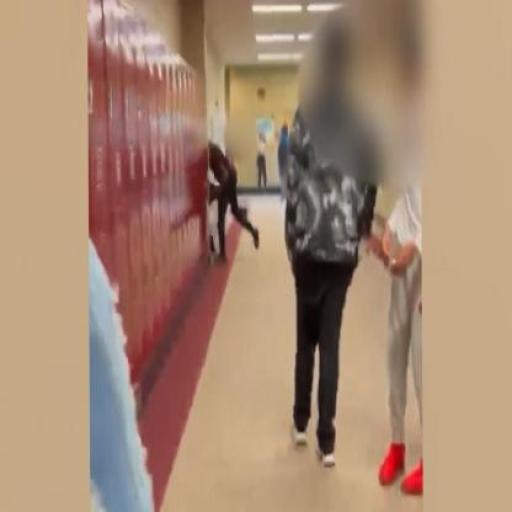Fighting: (194, 107, 266, 269)
